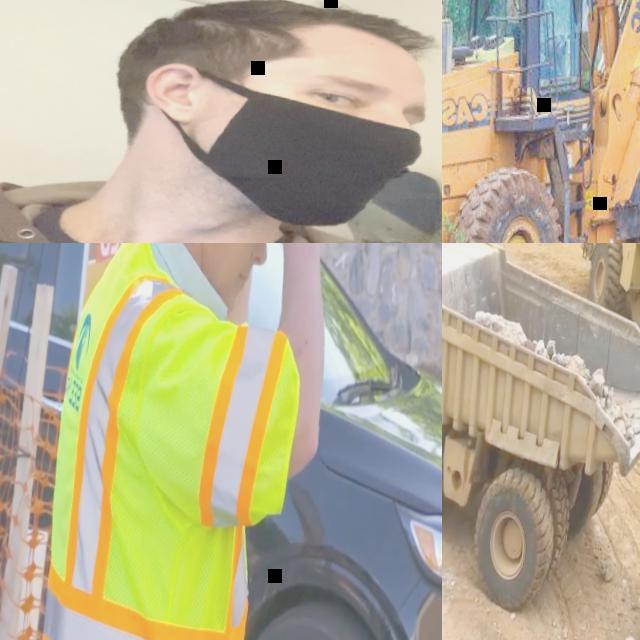machinery: (442, 243, 640, 628), (442, 0, 640, 243)
mask: (162, 71, 438, 240)
no_helmet: (140, 0, 442, 72)
no_mask: (197, 243, 255, 313)
person: (34, 243, 359, 640), (0, 0, 442, 243), (532, 0, 559, 74)
vehicle: (0, 243, 442, 640)
vest: (34, 243, 309, 640)
